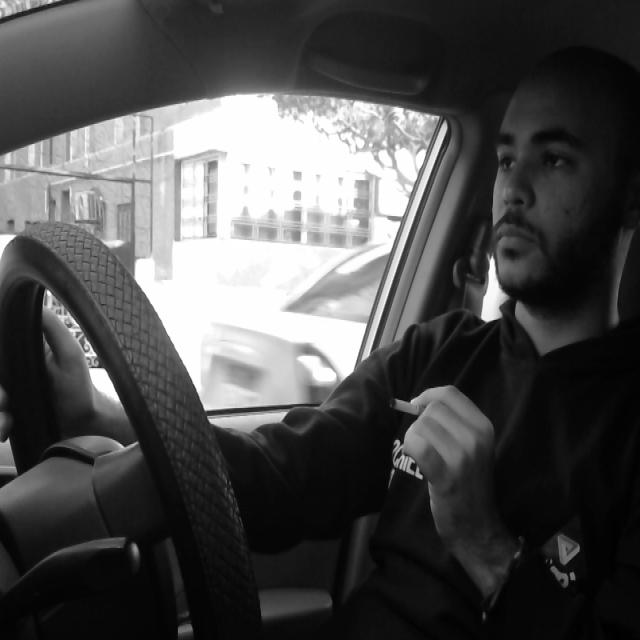smoking: (385, 388, 448, 418)
